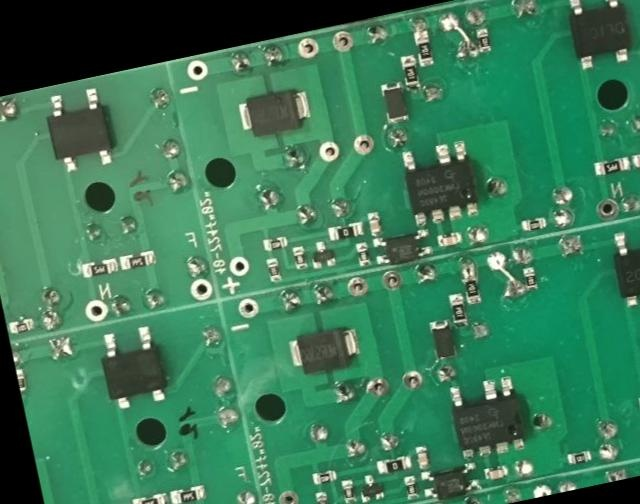chip-capacitor: (480, 463, 509, 483), (434, 230, 463, 249), (413, 444, 431, 471), (365, 210, 383, 237)
chip-resistor: (410, 28, 435, 69), (78, 256, 118, 281), (325, 218, 365, 242), (397, 52, 421, 92), (117, 248, 157, 272), (590, 155, 630, 178), (374, 453, 414, 476), (446, 291, 469, 330), (167, 483, 207, 504), (461, 275, 483, 306), (6, 315, 36, 336), (264, 255, 284, 285), (472, 25, 492, 55), (260, 233, 288, 253), (352, 240, 371, 268), (289, 244, 308, 272), (309, 468, 337, 487), (519, 265, 538, 293), (401, 473, 419, 502), (129, 491, 169, 504), (338, 477, 357, 504), (518, 216, 546, 234), (564, 449, 592, 467), (14, 365, 29, 393), (311, 488, 331, 504)
diode: (231, 82, 315, 142), (281, 322, 363, 380), (377, 79, 411, 127), (426, 316, 459, 364)
ic: (396, 137, 482, 228), (443, 372, 528, 464), (39, 84, 117, 178), (93, 322, 170, 413), (560, 0, 636, 73), (369, 226, 435, 268), (417, 460, 481, 503)
transistor: (353, 471, 386, 504), (305, 237, 337, 271)
